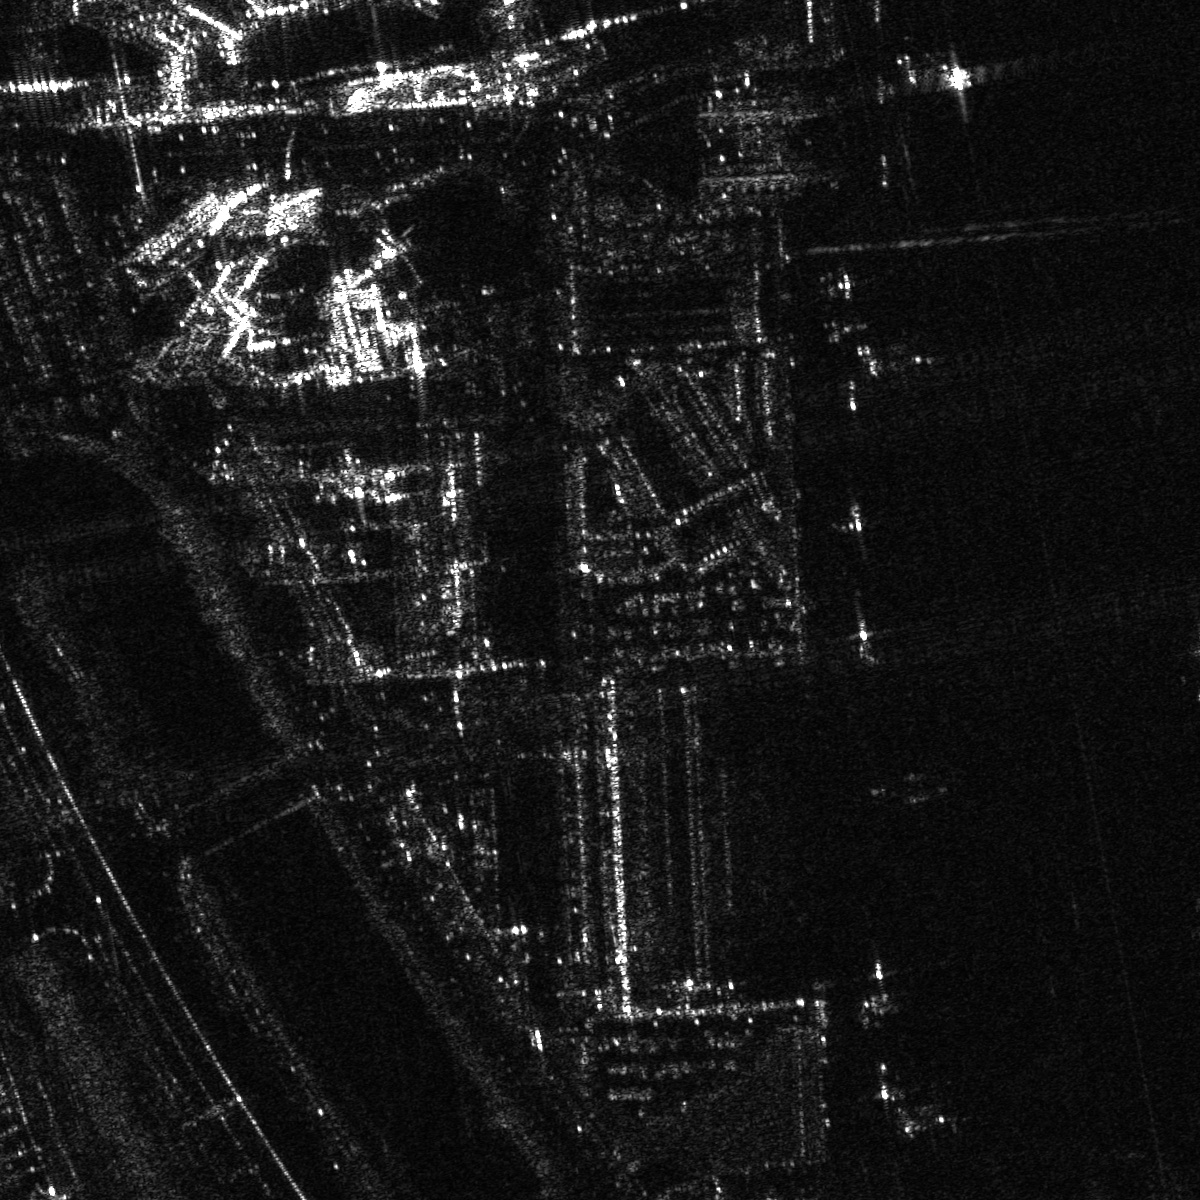A220: (881, 1073, 980, 1152)
